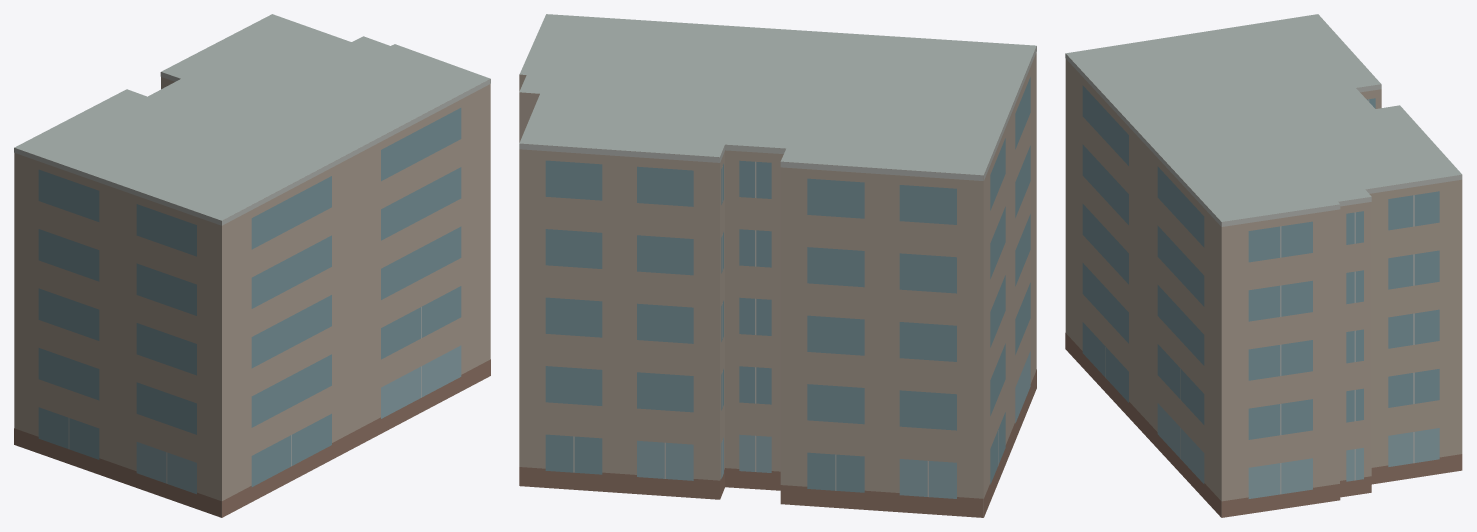
Rendered from survey-upis-32899166.glb.
3 renders of one model, left to right at view 1: azimuth 30°, elevation 25°; view 2: azimuth 150°, elevation 25°; view 3: azimuth 270°, elevation 25°, orthographic. The views are drawn at different scales.
Visible parts, largest first — view 1: survey-upis-32899166.tmp; view 2: survey-upis-32899166.tmp; view 3: survey-upis-32899166.tmp.
Boxes of the visible parts, x1,y1,x2,y2 form: survey-upis-32899166.tmp: [14, 14, 490, 517]; survey-upis-32899166.tmp: [519, 14, 1036, 517]; survey-upis-32899166.tmp: [1065, 14, 1462, 517].
Size of the model in its own units: 21.77 by 14.43 by 17.55.
